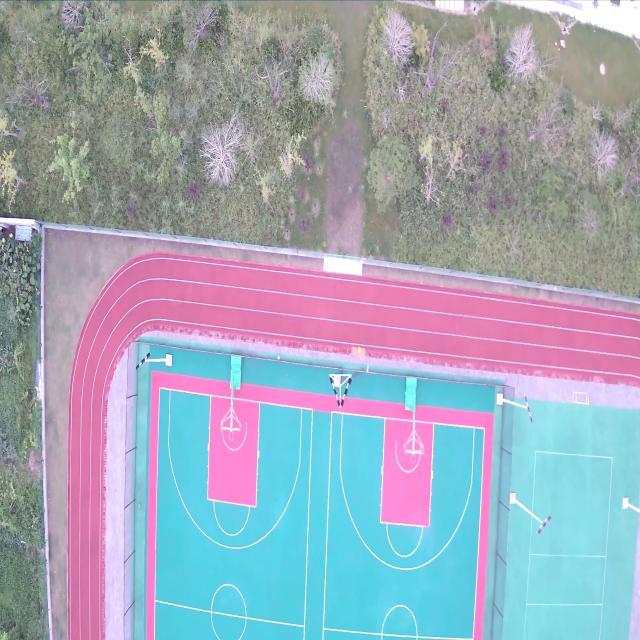UAV: (362, 362, 374, 378)
